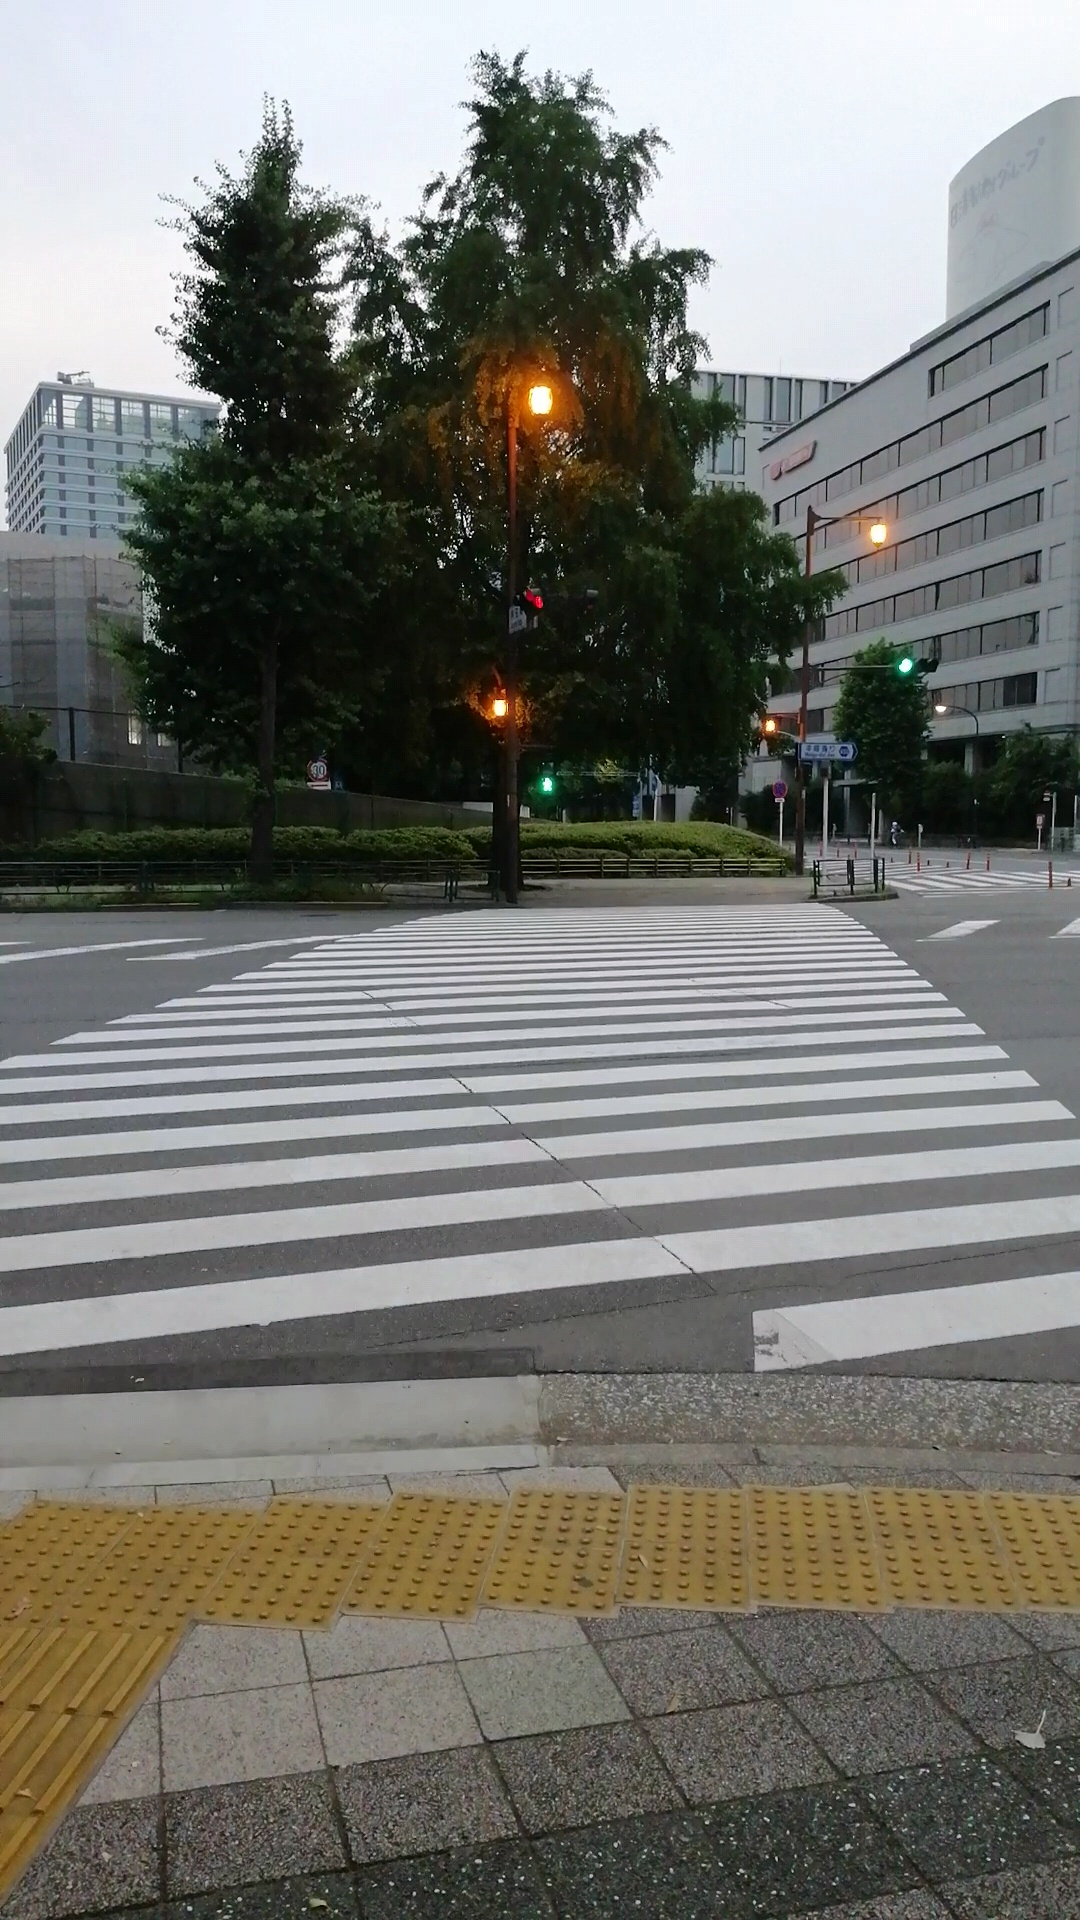green: (533, 753, 559, 799)
